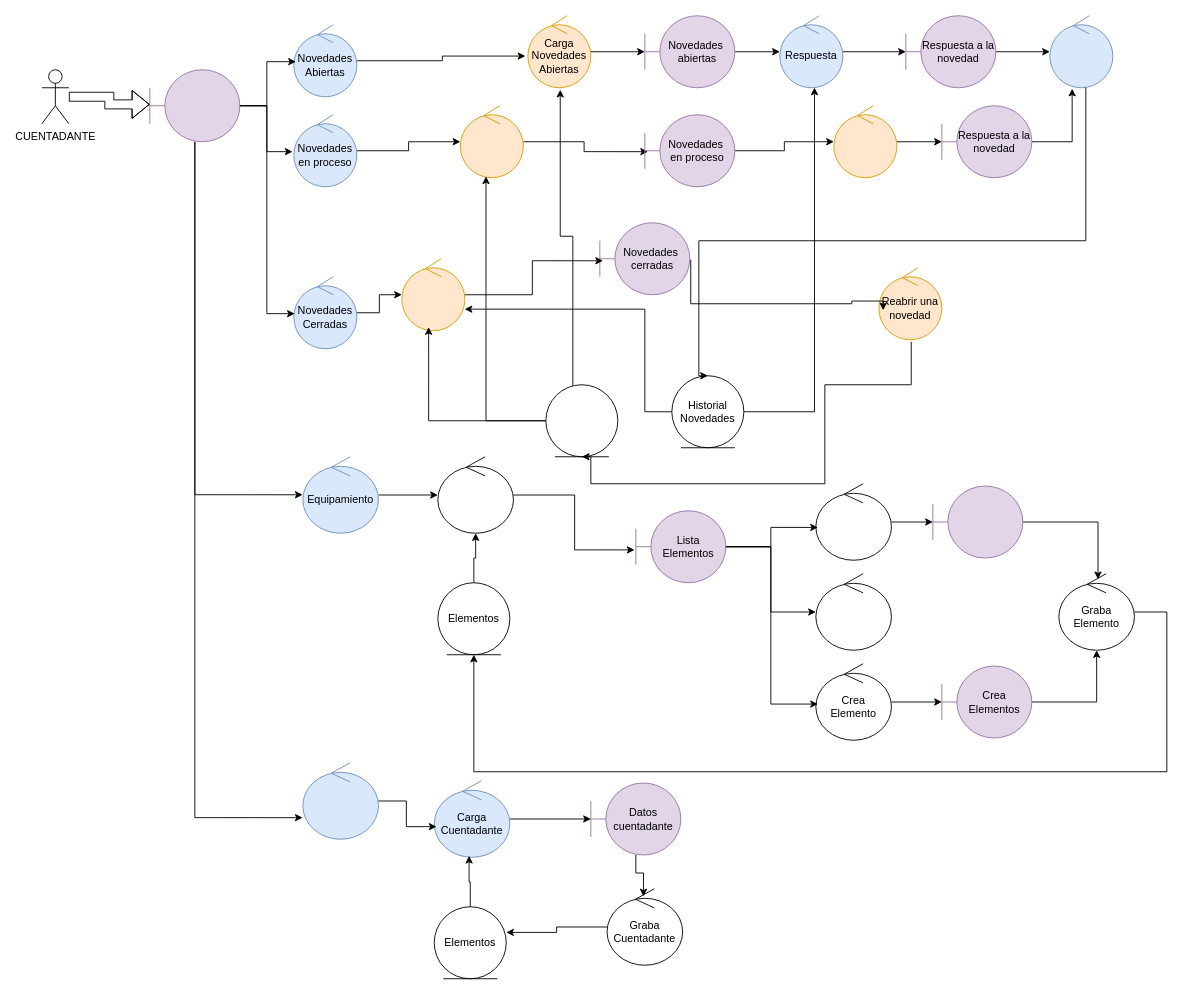
The diagram is 1190 pixels wide and 995 high, and some of its shapes have lost their labels. The shapes that lost their labels are listed below. From the top down, each one's centre as x and y in pixels, then its label:
At [1081,51]: "Graba Respuesta".
At [194,105]: "Inicio".
At [491,141]: "Carga Novedades en proceso".
At [865,141]: "Respuestas".
At [433,294]: "Carga Novedades cerrads".
At [581,420]: "Novedades".
At [475,494]: "Carga Elementos".
At [853,521]: "Edita Elemento".
At [977,521]: "Edita Elementos".
At [853,611]: "Elimina Elemento".
At [340,800]: "Configuracion Cuentadante".
